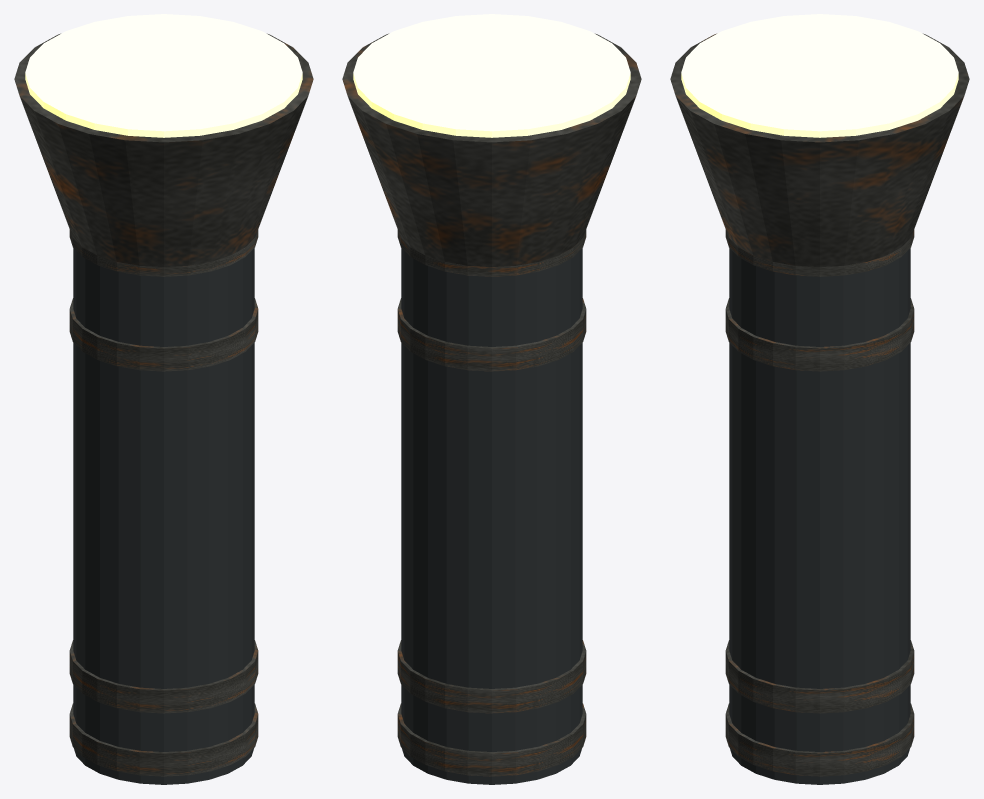
Rendered from senter.glb.
3 views of the same model, side by side, from view 1: azimuth 30°, elevation 25°; view 2: azimuth 150°, elevation 25°; view 3: azimuth 270°, elevation 25° (orthographic).
Parts seen in each view (by area): view 1: Badan.003, Reflektor, Lensa, Cincin.013, Cincin.014, Cincin.012, Cincin.015; view 2: Badan.003, Reflektor, Lensa, Cincin.013, Cincin.014, Cincin.012, Cincin.015; view 3: Badan.003, Reflektor, Lensa, Cincin.013, Cincin.014, Cincin.012, Cincin.015.
Boxes of the visible parts, box(x1,y1,x2,y2) form: Badan.003: box(73, 248, 254, 784); Reflektor: box(14, 33, 313, 266); Lensa: box(25, 14, 302, 137); Cincin.013: box(69, 640, 258, 713); Cincin.014: box(69, 298, 258, 371); Cincin.012: box(69, 703, 258, 776); Cincin.015: box(69, 230, 258, 276); Badan.003: box(401, 248, 582, 784); Reflektor: box(342, 33, 641, 266); Lensa: box(353, 14, 630, 137); Cincin.013: box(397, 640, 586, 713); Cincin.014: box(397, 298, 586, 371); Cincin.012: box(397, 703, 586, 776); Cincin.015: box(397, 230, 586, 276); Badan.003: box(729, 248, 910, 784); Reflektor: box(670, 33, 969, 266); Lensa: box(681, 14, 958, 137); Cincin.013: box(725, 640, 914, 713); Cincin.014: box(725, 298, 914, 371); Cincin.012: box(725, 703, 914, 776); Cincin.015: box(725, 230, 914, 276).
Size of the model in its own units: 0.0825 by 0.205 by 0.0825.
Materials: 3 (1 with a texture image).
